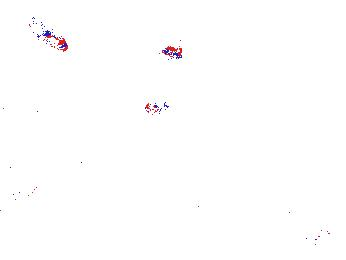X-ray fish: (295, 220, 332, 246), (251, 130, 266, 160)
red belly glassfish: (26, 18, 69, 53), (145, 98, 169, 116), (161, 42, 184, 60)
